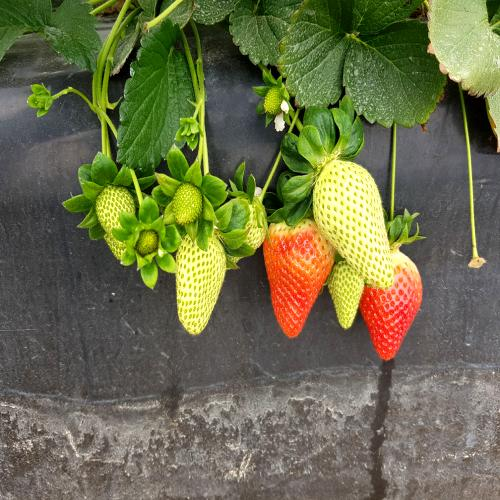unripe: (316, 154, 401, 296), (176, 215, 227, 342)
